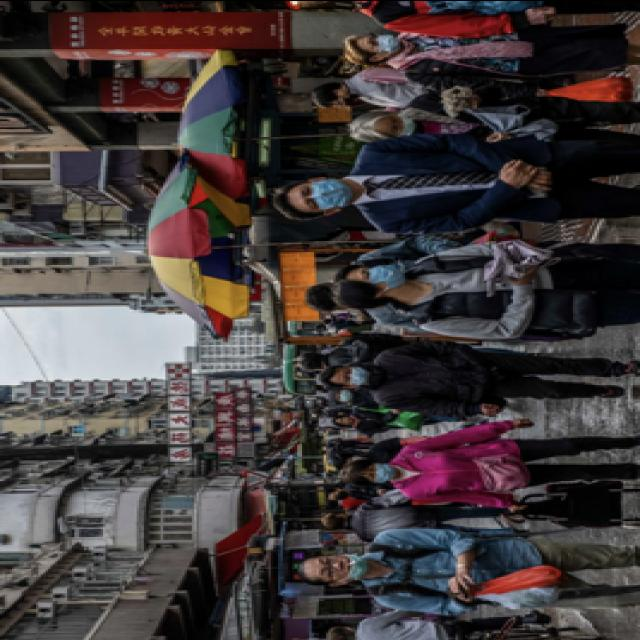mask_weared_incorrect: (314, 552, 364, 581)
with_mask: (294, 178, 352, 210), (355, 262, 407, 286), (362, 32, 400, 53), (338, 363, 374, 384), (364, 461, 396, 483), (384, 112, 414, 134), (333, 93, 357, 104), (333, 389, 352, 400), (331, 490, 345, 500)
without_mask: (336, 414, 352, 424)
